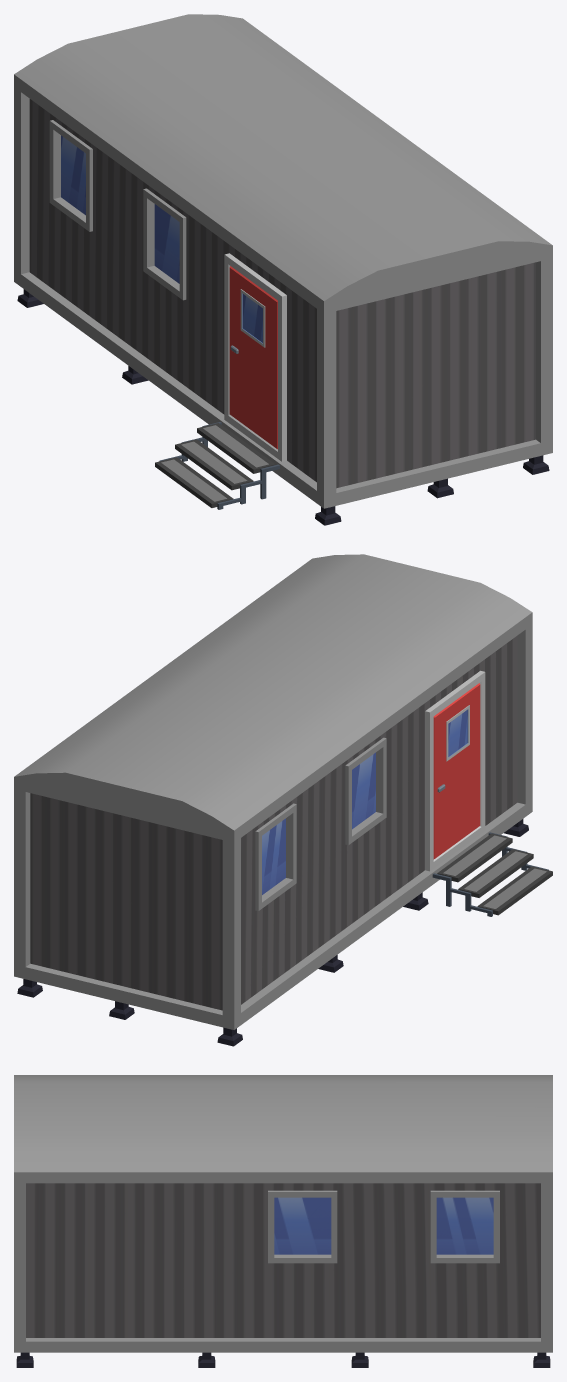
File: TrailerC_1_A.fbx
The picture shows the model from 3 angles, top to bottom: view 1: azimuth 30°, elevation 25°; view 2: azimuth 150°, elevation 25°; view 3: azimuth 270°, elevation 25°; orthographic projection. The views are drawn at different scales.
Visible parts, largest first — view 1: TrailerC_1_A; view 2: TrailerC_1_A; view 3: TrailerC_1_A.
Part boxes in pixels (x1=…): TrailerC_1_A: x1=14, y1=14, x2=552, y2=525; TrailerC_1_A: x1=14, y1=554, x2=552, y2=1046; TrailerC_1_A: x1=14, y1=1075, x2=552, y2=1367.
Size of the model in its own units: 330 by 260 by 599.
